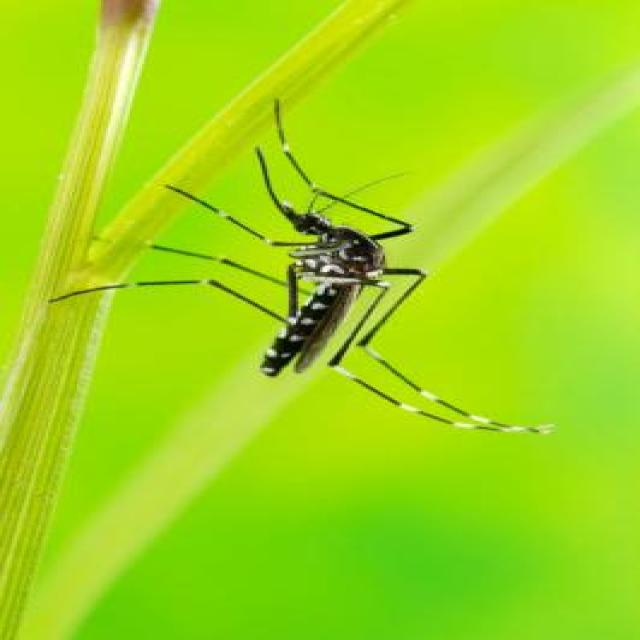antennae: (286, 158, 425, 214)
body: (260, 212, 382, 384)
insect: (42, 90, 553, 444)
legs: (45, 186, 318, 339), (335, 268, 552, 438)
mouthpart: (240, 136, 310, 228)
wings: (290, 282, 360, 378)
